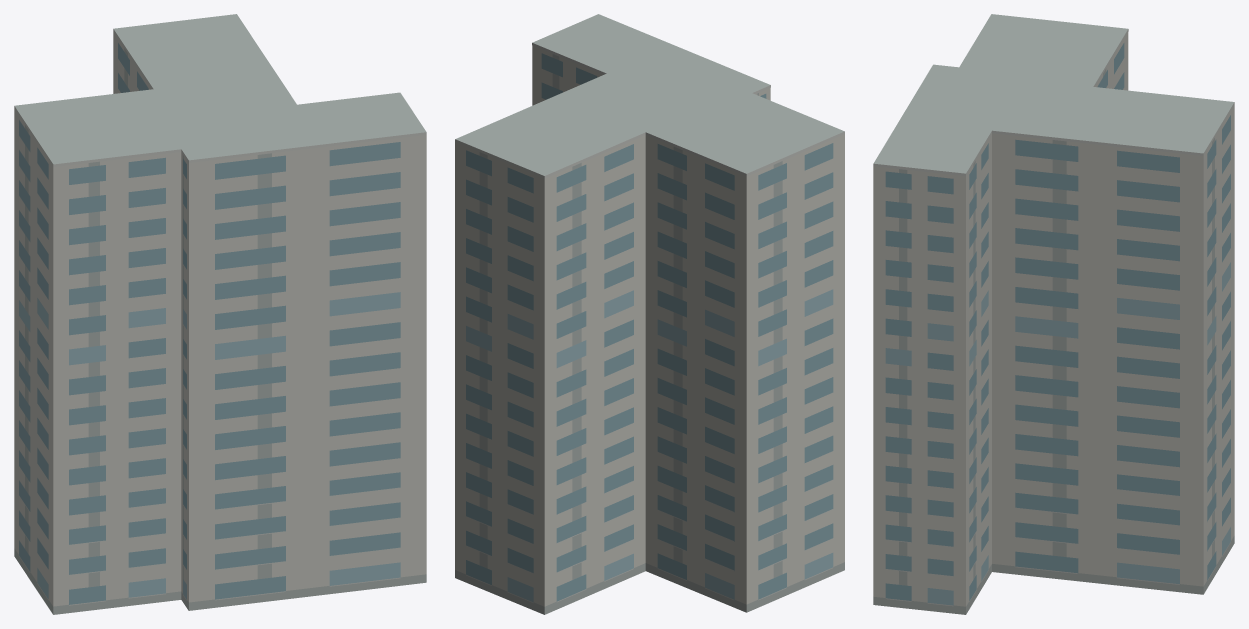
File: residential-933ffb42-385b-4d13-b10b-2bb778b7ac6a.glb
The picture shows the model from 3 angles, left to right: view 1: azimuth 30°, elevation 25°; view 2: azimuth 150°, elevation 25°; view 3: azimuth 270°, elevation 25°; orthographic projection. The views are drawn at different scales.
Parts seen in each view (by area): view 1: residential-933ffb42-385b-4d13-b10b-2bb778b7ac6a.tmp; view 2: residential-933ffb42-385b-4d13-b10b-2bb778b7ac6a.tmp; view 3: residential-933ffb42-385b-4d13-b10b-2bb778b7ac6a.tmp.
Boxes of the visible parts, <box> form: residential-933ffb42-385b-4d13-b10b-2bb778b7ac6a.tmp: <box>14,14,426,614</box>; residential-933ffb42-385b-4d13-b10b-2bb778b7ac6a.tmp: <box>455,14,844,614</box>; residential-933ffb42-385b-4d13-b10b-2bb778b7ac6a.tmp: <box>873,14,1234,614</box>.
Bounding box in the file's own units: 31.04 × 40 × 29.68.
